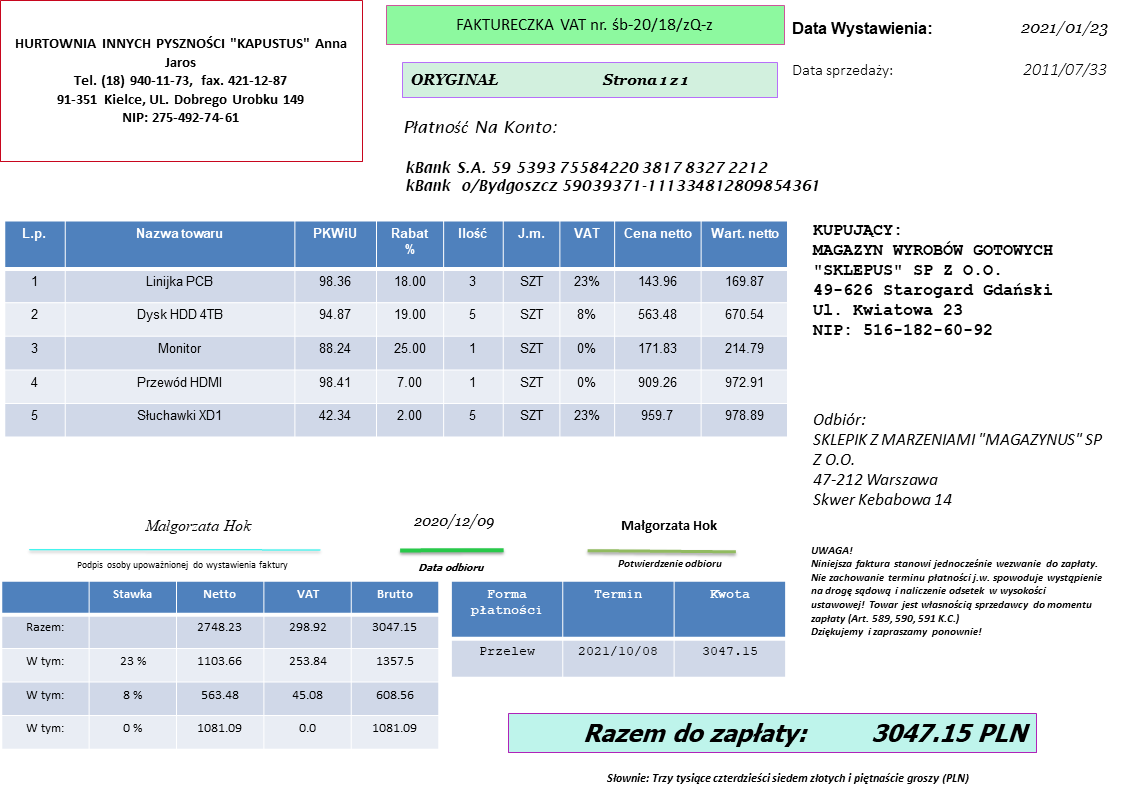Table: (3, 219, 787, 436), (1, 579, 439, 751), (450, 580, 785, 676)
TextBox: (12, 34, 350, 127), (811, 410, 1104, 509), (811, 221, 1056, 339), (808, 544, 1104, 641), (402, 157, 820, 196), (581, 719, 1033, 749), (605, 769, 970, 788), (408, 69, 690, 90), (452, 15, 714, 33), (73, 556, 288, 574), (790, 18, 934, 40), (401, 117, 558, 137), (142, 517, 254, 537), (790, 61, 894, 81), (618, 516, 720, 535), (1018, 19, 1108, 39), (1021, 60, 1110, 80), (411, 511, 494, 532), (615, 556, 724, 571), (417, 560, 485, 575)
